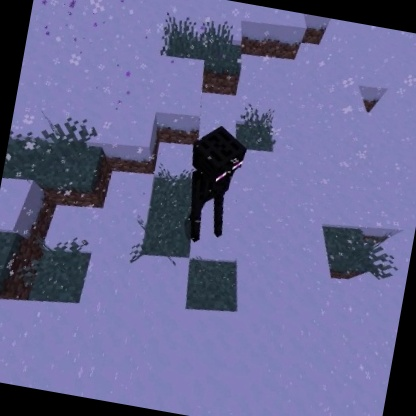enderman: (174, 118, 254, 252)
